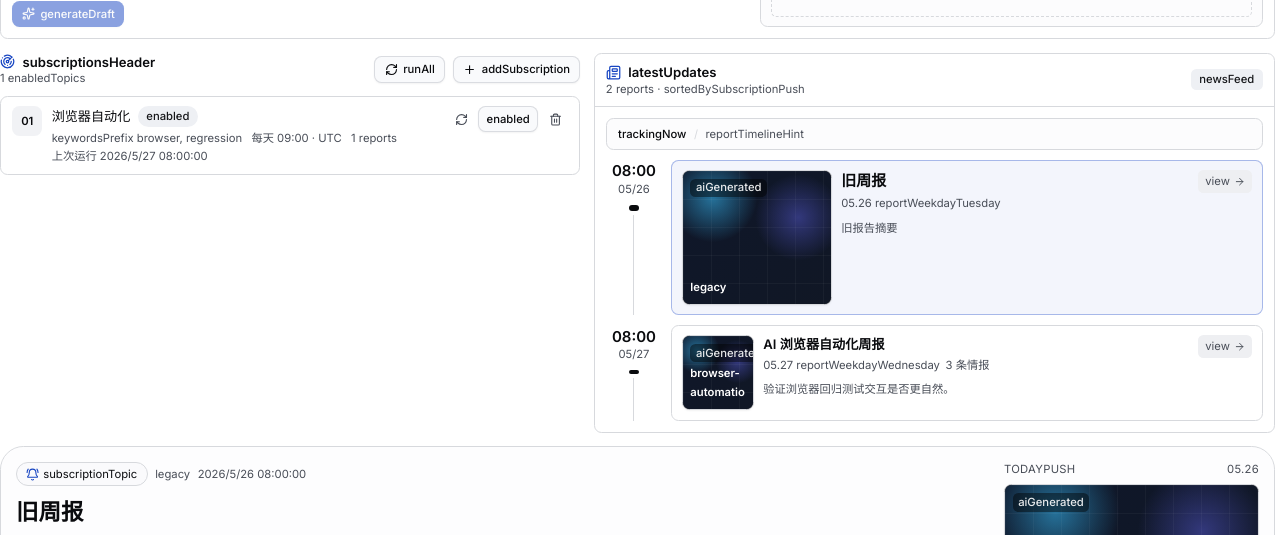
IntelligencePanel › renders report cards and opens the selected report as an article
Expected: the text "旧周报" in the row of "05/26" is shown, [841,171,886,190]
Expected: the text "AI 浏览器自动化周报" is shown, [763,336,885,352]
What coordinates should you click on to do the following:
click the button "AI 浏览器自动化周报"
I would click on:
 (967, 373)
Its box is [672,325,1263,421].
(page scrolled)
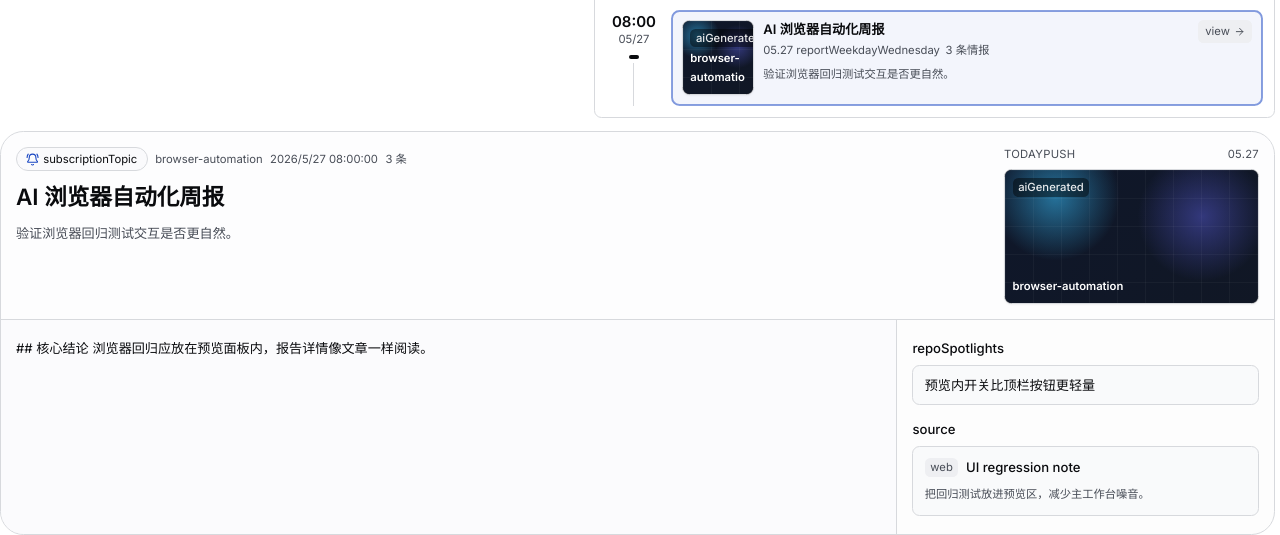
Result: the text "## 核心结论 浏览器回归应放在预览面板内，报告详情像文章一样阅读。" is shown at [16,340,433,356]
Result: the text "预览内开关比顶栏按钮更轻量" is shown at [912,365,1259,405]
